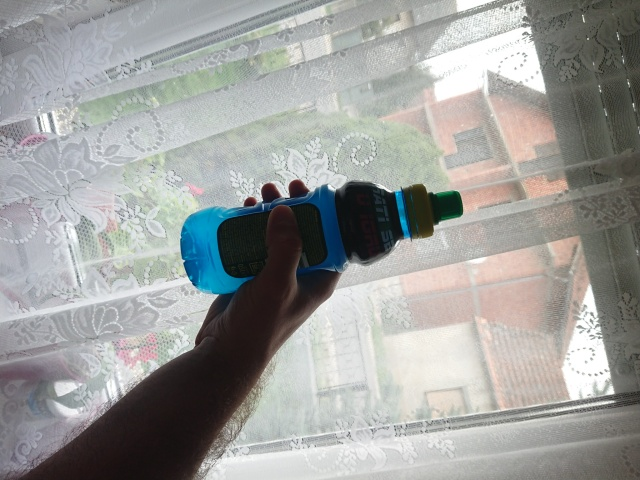Vindi Iso Sport Forest Strawberries 500mL: (178, 178, 466, 296)
